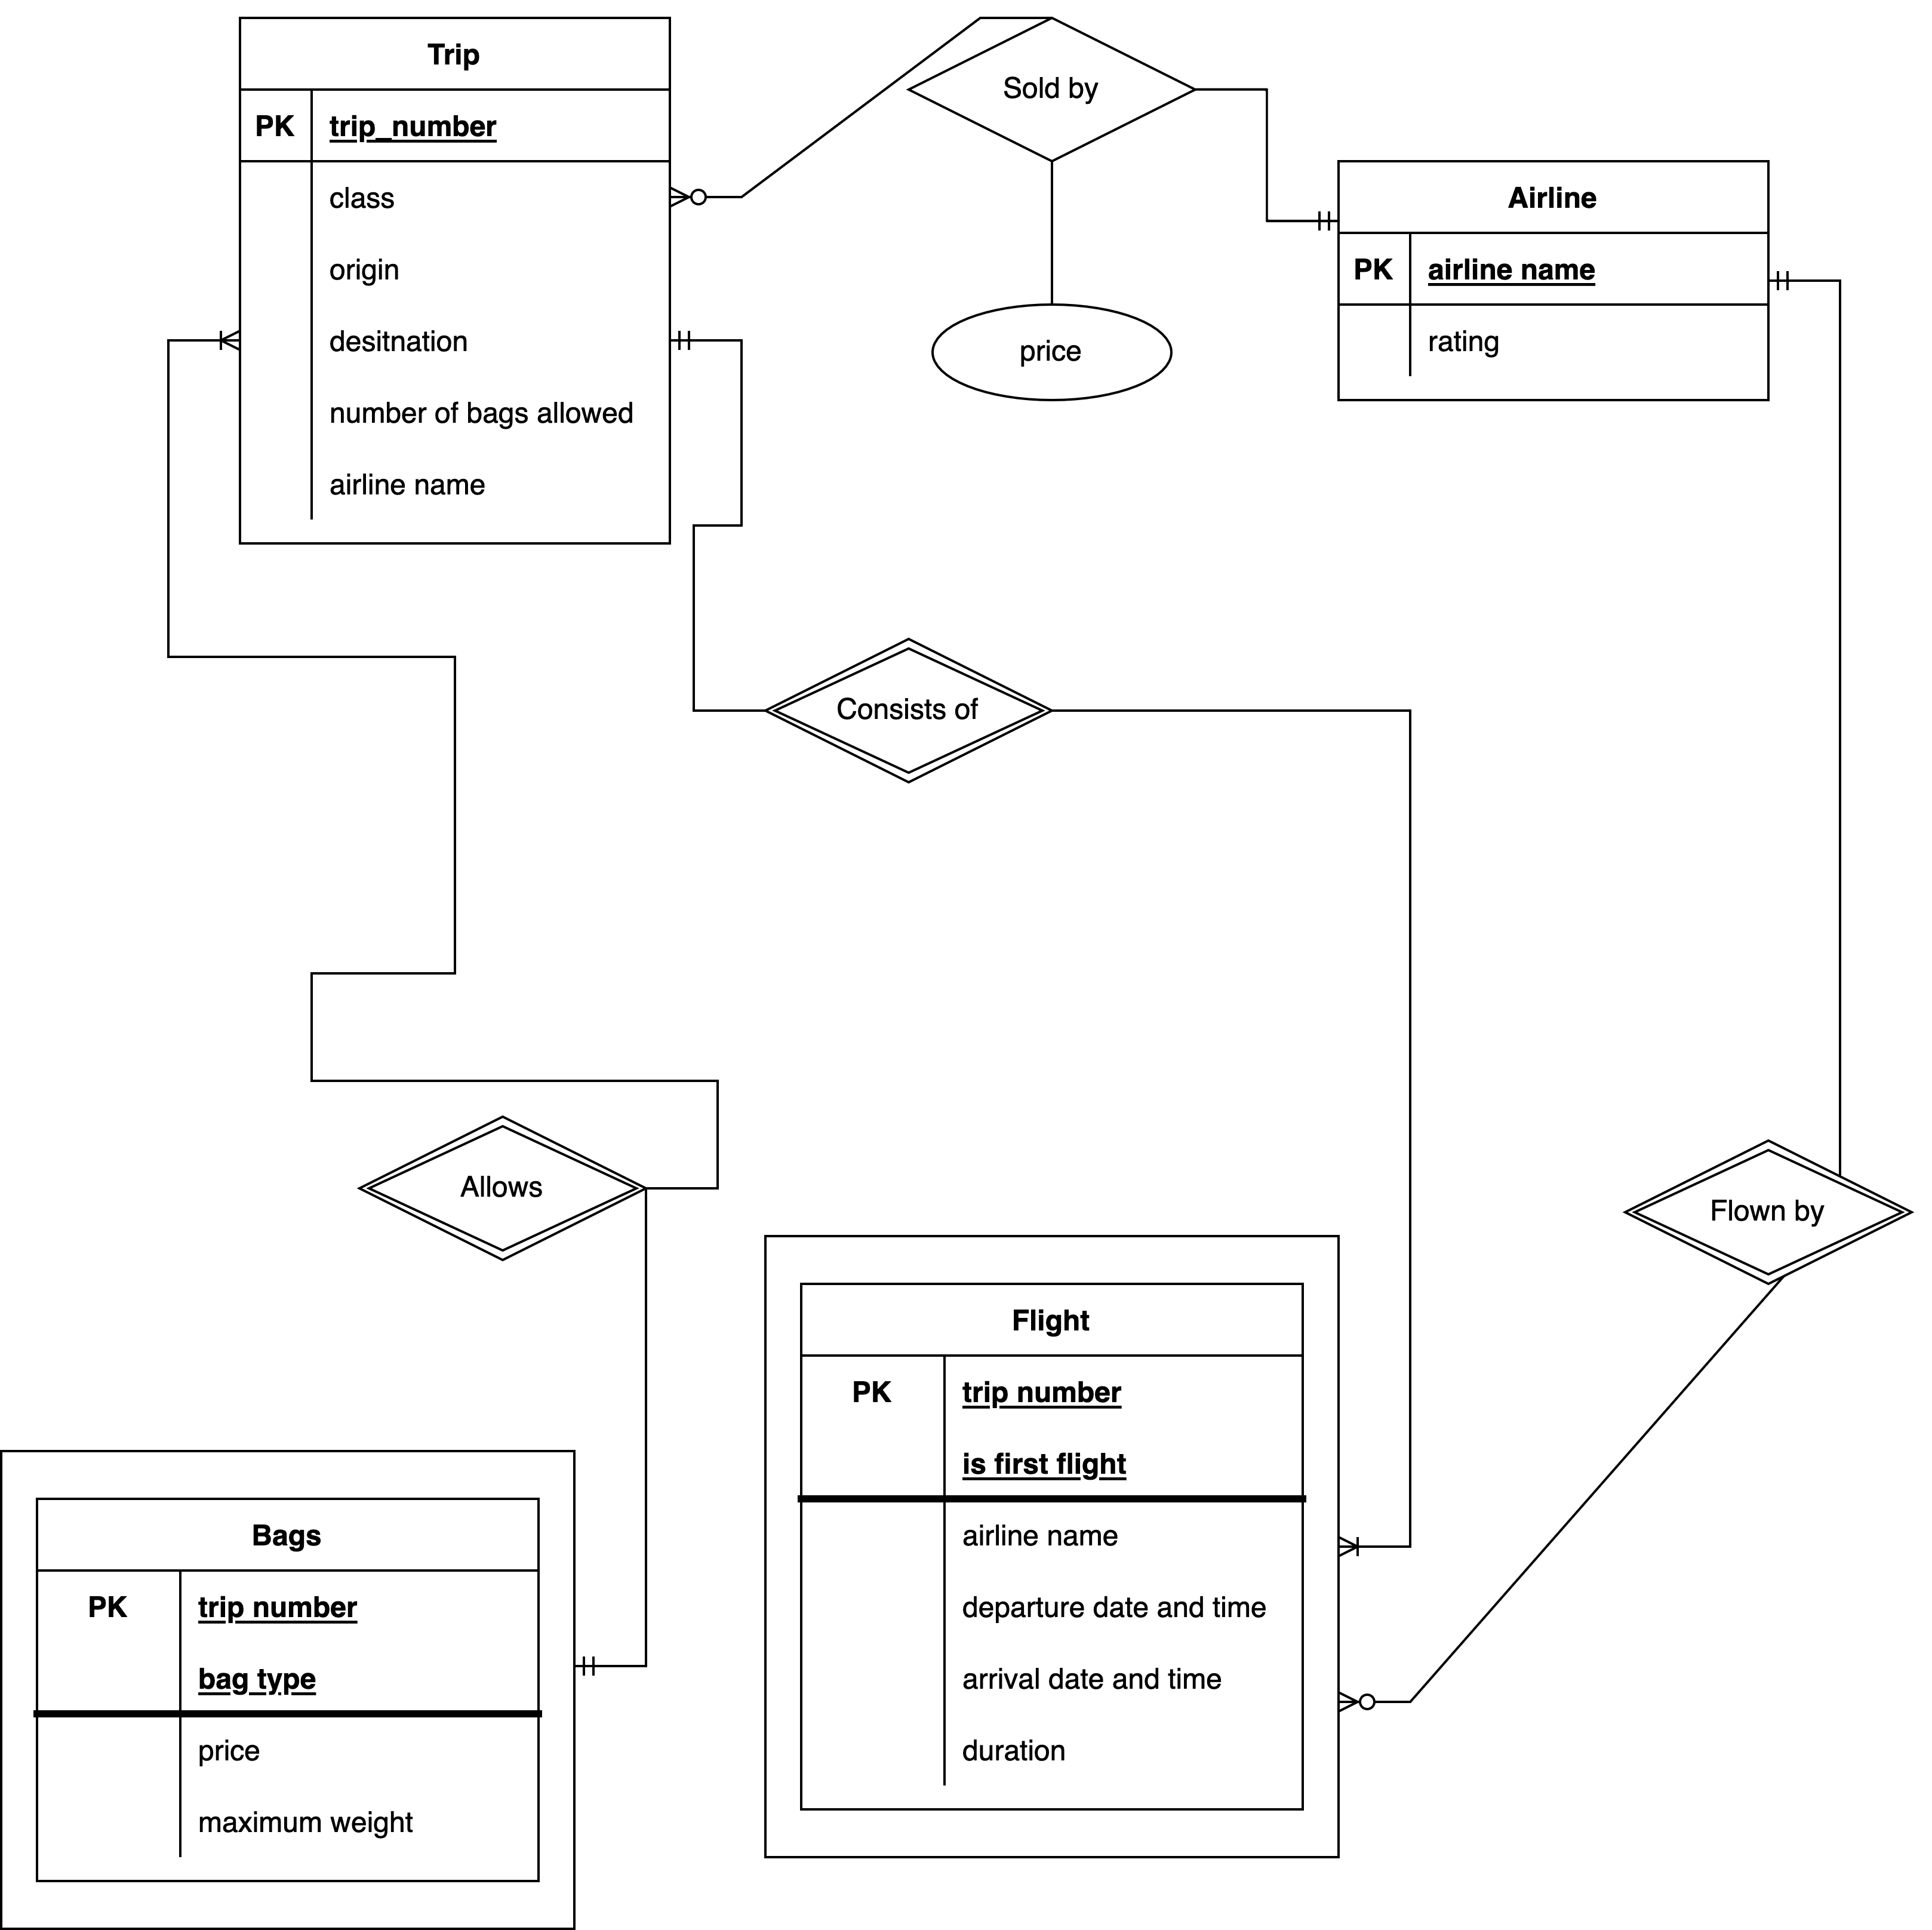entity: (237, 12, 673, 545), (1332, 161, 1768, 403)
ident_rel: (1625, 1128, 1917, 1289), (354, 1118, 642, 1260), (770, 636, 1046, 780)
many: (1339, 1507, 1396, 1587), (669, 171, 733, 218), (1334, 1676, 1390, 1729), (204, 306, 243, 366)
one: (1768, 249, 1842, 305), (1262, 191, 1336, 247), (667, 306, 721, 373), (573, 1637, 628, 1695)
rel: (910, 19, 1194, 158)
rel_attr: (931, 302, 1176, 401)
weak_entity: (766, 1231, 1340, 1857), (1, 1452, 570, 1923)
